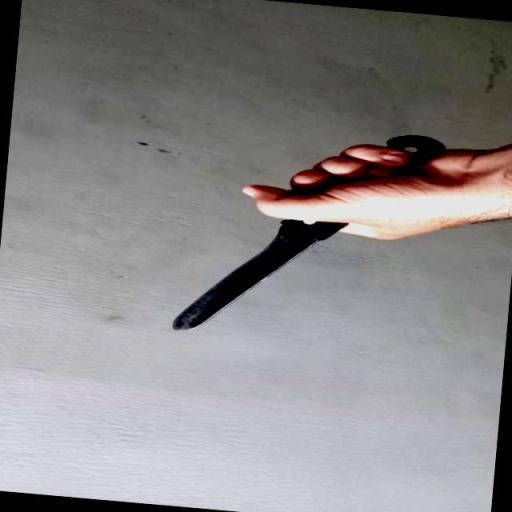knife: (169, 115, 443, 353)
